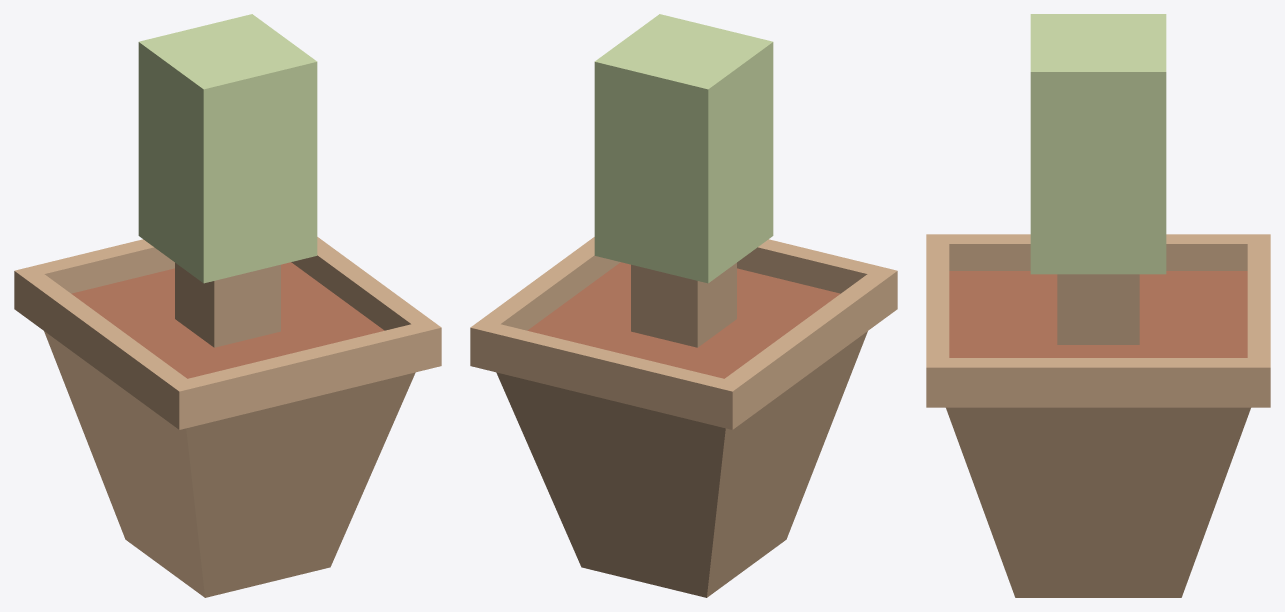
Rendered from plant1.fbx.
3 renders of one model, left to right at view 1: azimuth 30°, elevation 25°; view 2: azimuth 150°, elevation 25°; view 3: azimuth 270°, elevation 25°, orthographic. The views are drawn at different scales.
Parts seen in each view (by area): view 1: Cube_31; view 2: Cube_31; view 3: Cube_31.
Part boxes in pixels (x1,y1,x2,y2): Cube_31: (14, 14, 441, 597); Cube_31: (470, 14, 897, 597); Cube_31: (926, 14, 1270, 597).
Bounding box in the file's own units: 11.79 × 21.55 × 12.86.
